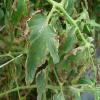Tomato leaf bacterial spot: (20, 3, 60, 88)
